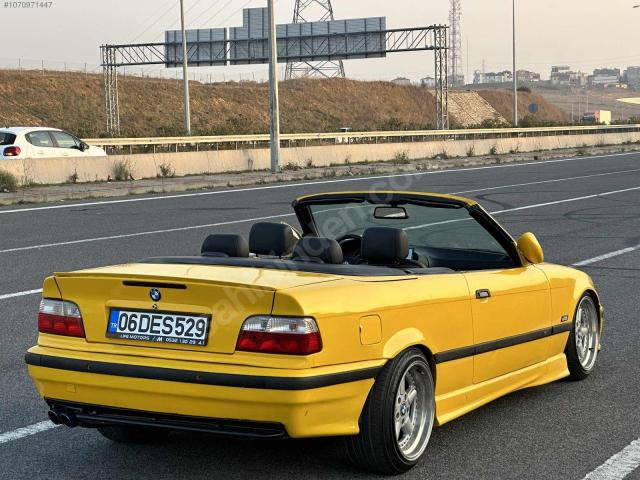plaka: (106, 308, 210, 345)
